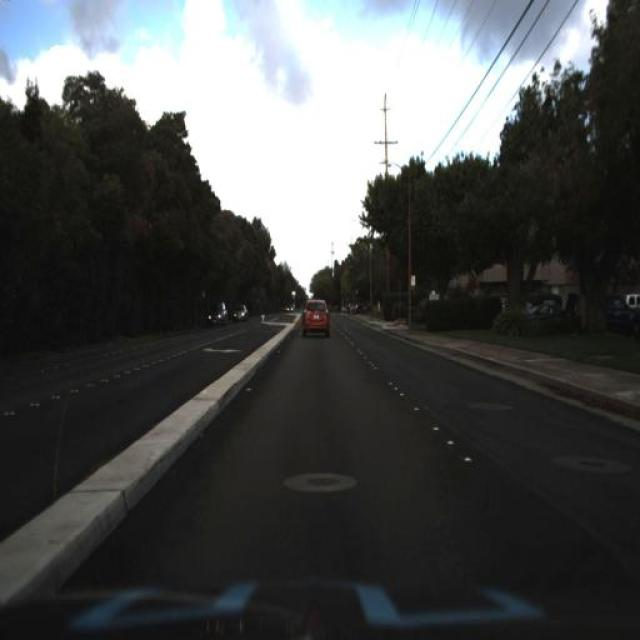car: (302, 298, 332, 338), (204, 298, 228, 324), (230, 299, 249, 325), (234, 300, 248, 320)
trafficLight: (376, 299, 382, 321)
